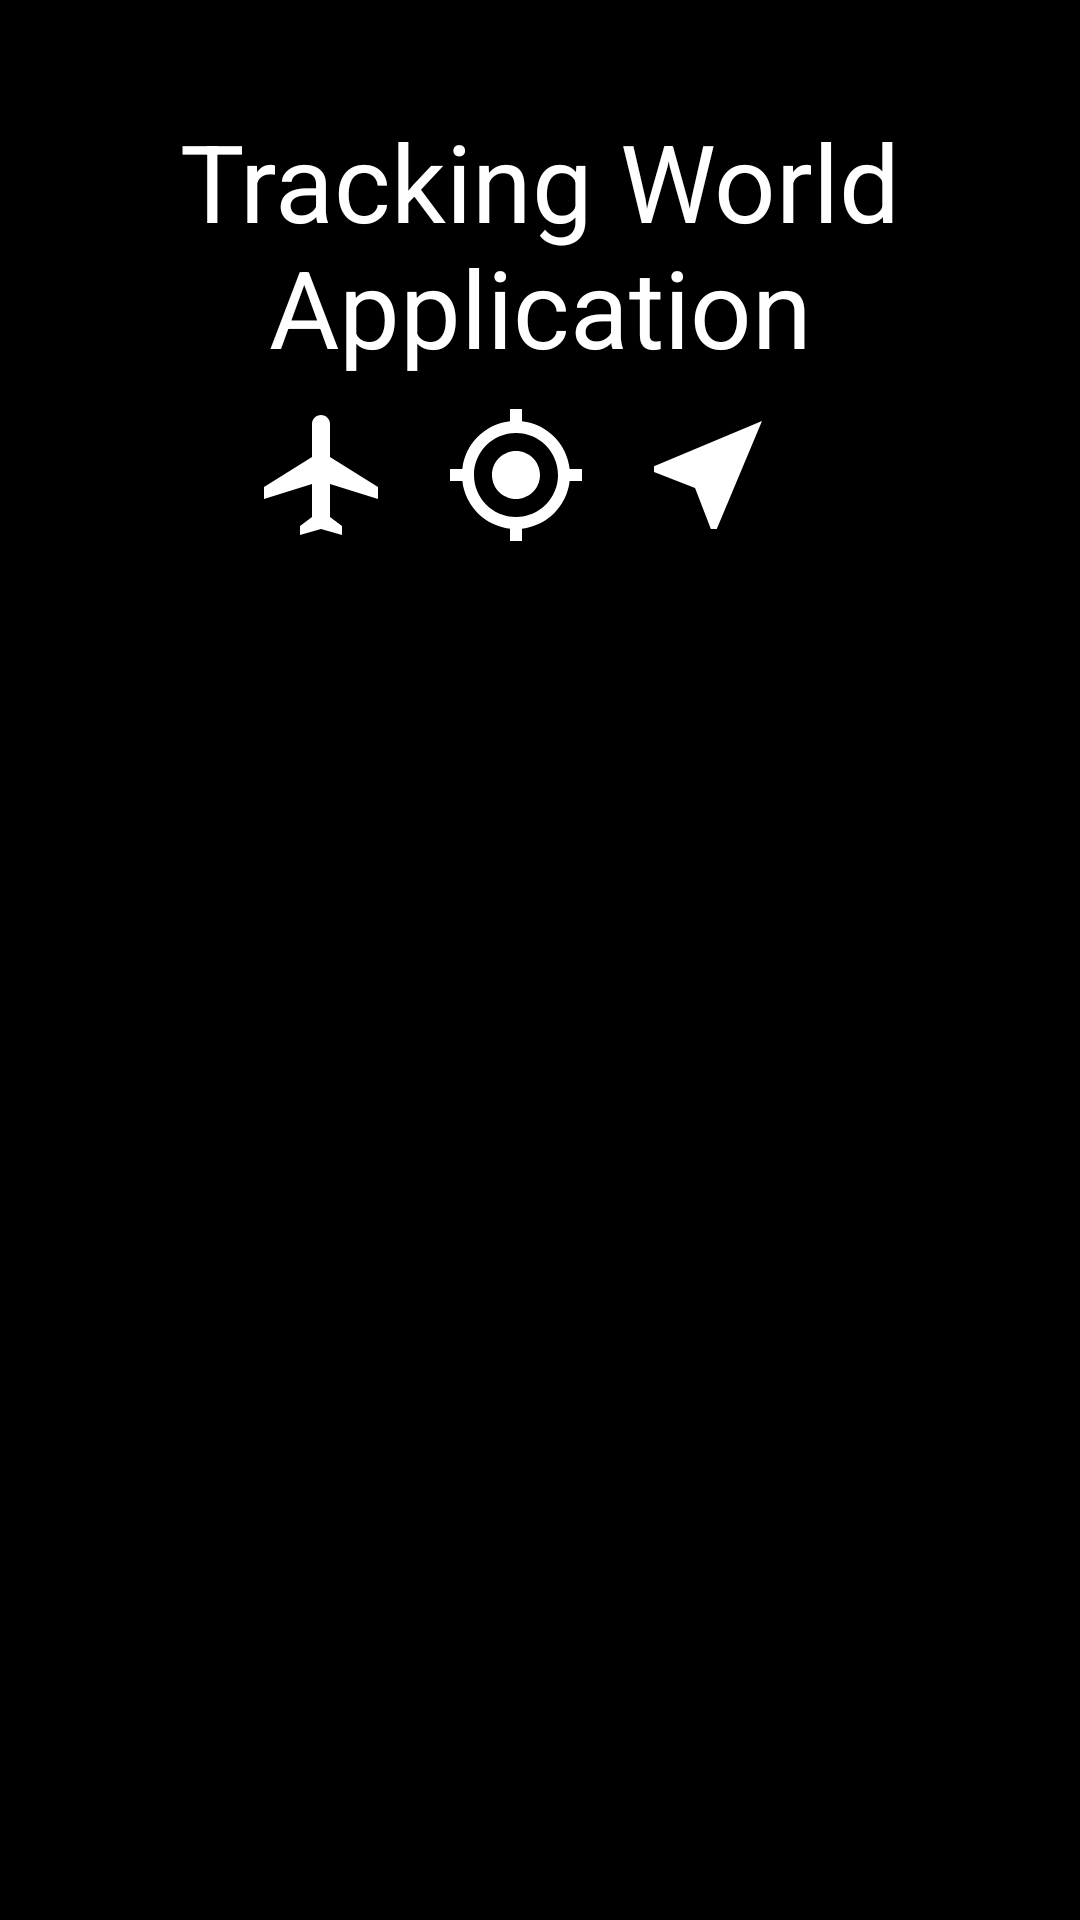

Screen size 1080x1920. Icon name, then its box in pixels as box=[x1, y1, x2, y2]:
flight: box=[264, 415, 378, 535]
location: box=[450, 409, 582, 541]
near me: box=[654, 421, 762, 529]
